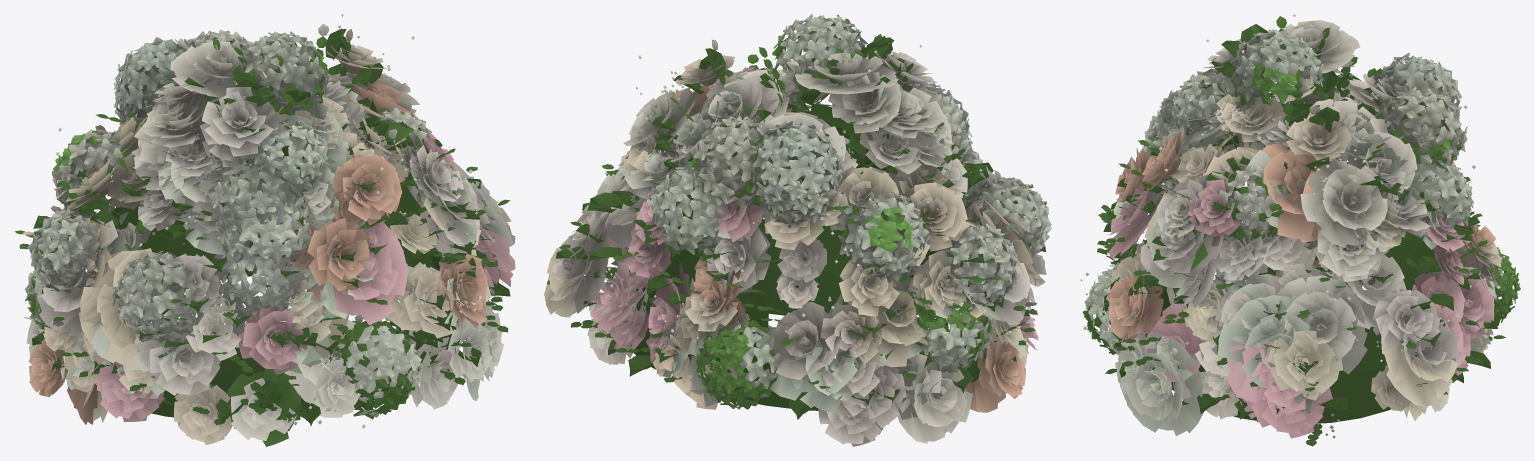
File: mound_c_bright_v8.glb
The picture shows the model from 3 angles, left to right: view 1: azimuth 30°, elevation 25°; view 2: azimuth 150°, elevation 25°; view 3: azimuth 270°, elevation 25°; orthographic projection. The views are drawn at different scales.
Parts seen in each view (by area): view 1: petals; view 2: petals; view 3: petals.
Part boxes in pixels (x1,y1,x2,y2): petals: (14,14,515,446); petals: (544,14,1051,446); petals: (1080,14,1520,446).
Size of the model in its own units: 0.0154 by 0.0105 by 0.0125.
